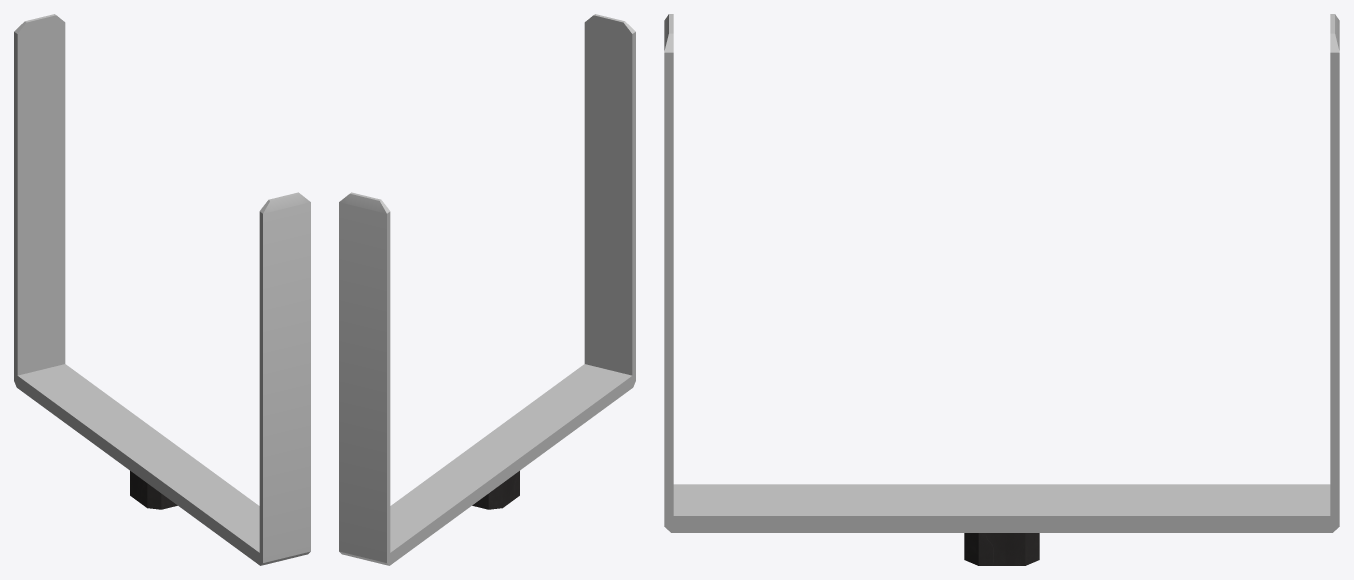
The model's file is studio_lightbracket.fbx.
3 views of the same model, side by side, from view 1: azimuth 30°, elevation 25°; view 2: azimuth 150°, elevation 25°; view 3: azimuth 270°, elevation 25° (orthographic). The views are drawn at different scales.
Parts seen in each view (by area): view 1: mesh_108, mesh_106, mesh_104; view 2: mesh_106, mesh_108, mesh_104; view 3: mesh_106, mesh_108, mesh_104.
Part boxes in pixels (box(x1,y1,x2,y2)): mesh_108: box(14, 14, 185, 476); mesh_106: box(138, 192, 310, 565); mesh_104: box(130, 471, 177, 509); mesh_106: box(464, 14, 635, 476); mesh_108: box(339, 192, 511, 565); mesh_104: box(472, 471, 519, 509); mesh_106: box(664, 14, 1001, 532); mesh_108: box(1002, 14, 1339, 532); mesh_104: box(964, 533, 1039, 565).
Bounding box in the file's own units: 32 × 249 × 288.
